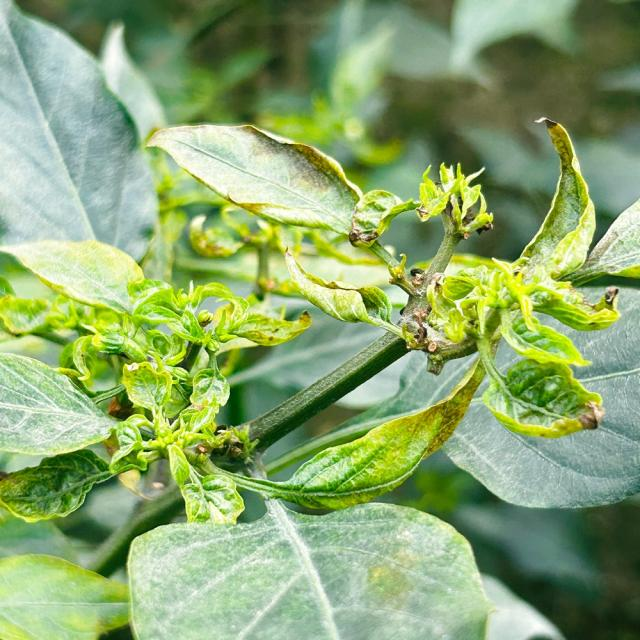Chilli_Leaf_Curl: (1, 2, 638, 638), (140, 115, 636, 513), (1, 238, 312, 525), (125, 496, 495, 639), (0, 0, 164, 274), (270, 353, 488, 514), (144, 121, 365, 239), (512, 115, 596, 284), (0, 350, 118, 457), (282, 247, 408, 344), (0, 552, 131, 638)
